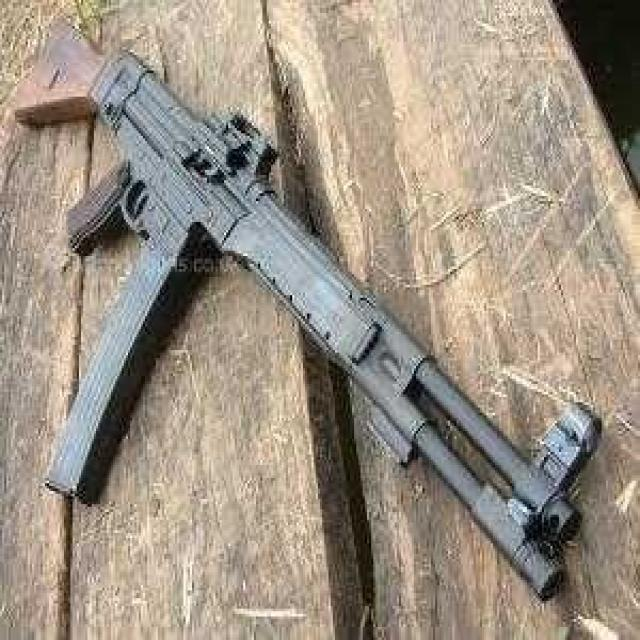Rifle: (5, 5, 616, 606)
